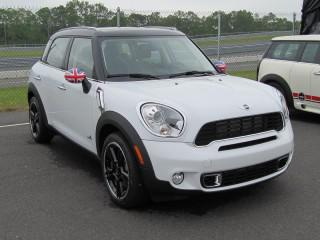mini: (233, 98, 259, 119)
